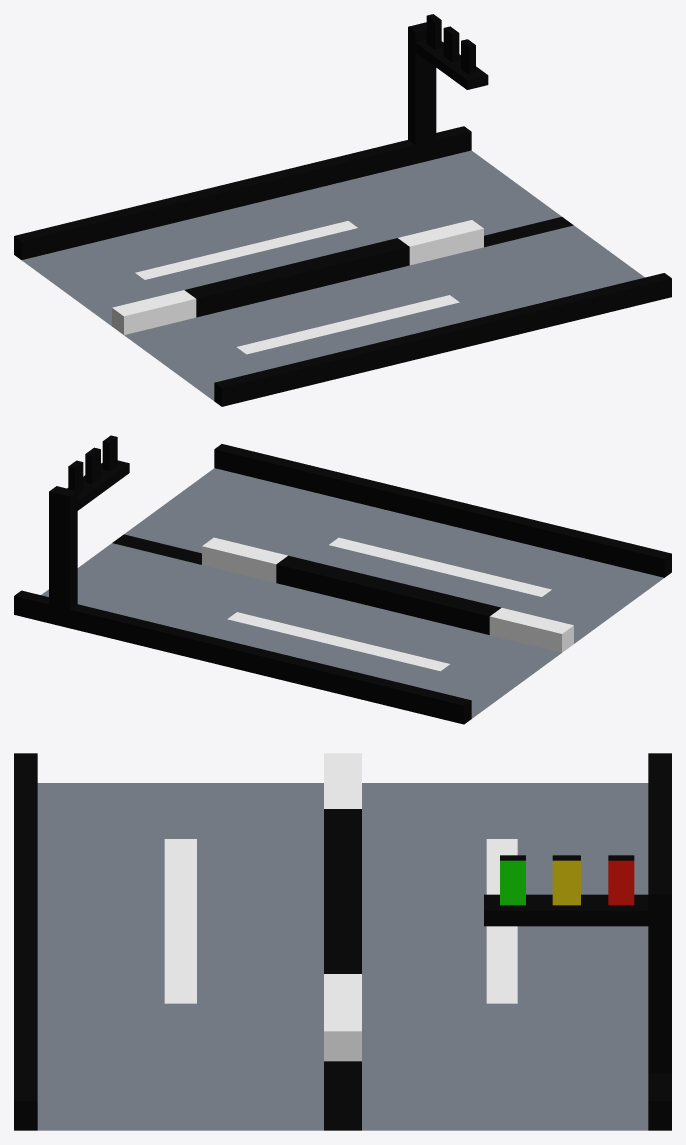
The model's file is RoadWithSignal.fbx.
The picture shows the model from 3 angles, top to bottom: view 1: azimuth 30°, elevation 25°; view 2: azimuth 150°, elevation 25°; view 3: azimuth 270°, elevation 25°; orthographic projection. The views are drawn at different scales.
Parts seen in each view (by area): view 1: Plane; view 2: Plane; view 3: Plane.
Boxes of the visible parts, x1=… form: Plane: x1=14, y1=14, x2=671, y2=406; Plane: x1=14, y1=435, x2=671, y2=724; Plane: x1=14, y1=753, x2=671, y2=1130.
Size of the model in its own units: 250 by 79.61 by 200.
